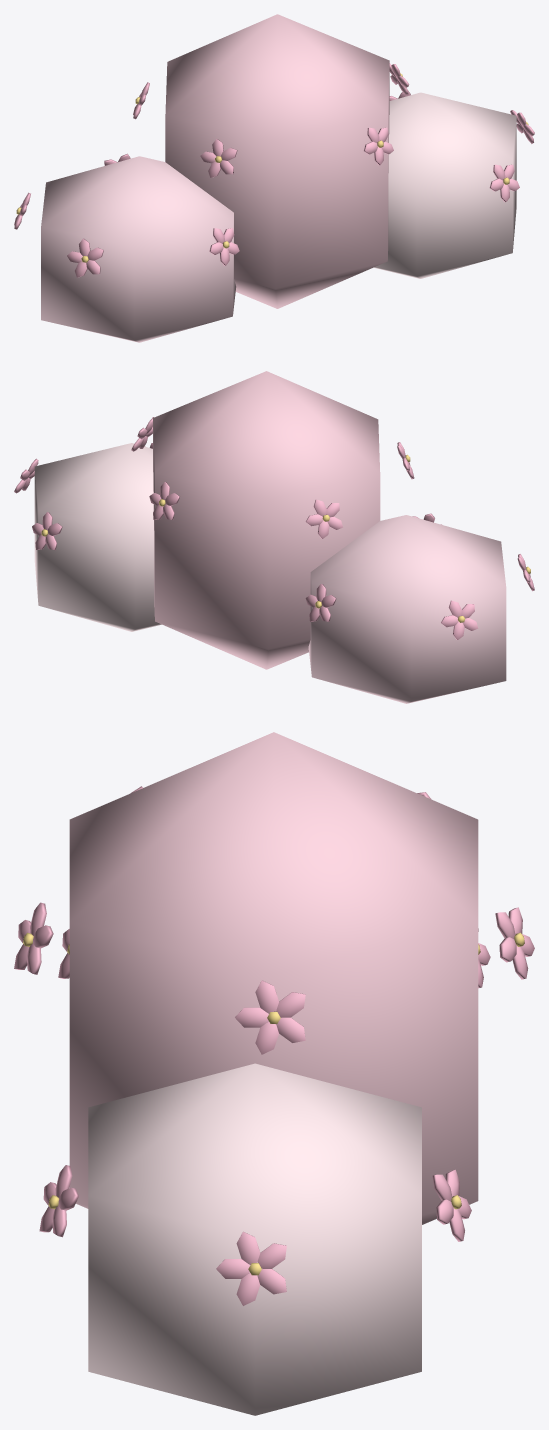
File: bush_mounded_spring_low.glb
3 renders of one model, top to bottom at view 1: azimuth 30°, elevation 25°; view 2: azimuth 150°, elevation 25°; view 3: azimuth 270°, elevation 25°, orthographic. The views are drawn at different scales.
Size of the model in its own units: 1.69 by 0.98 by 0.8316.
